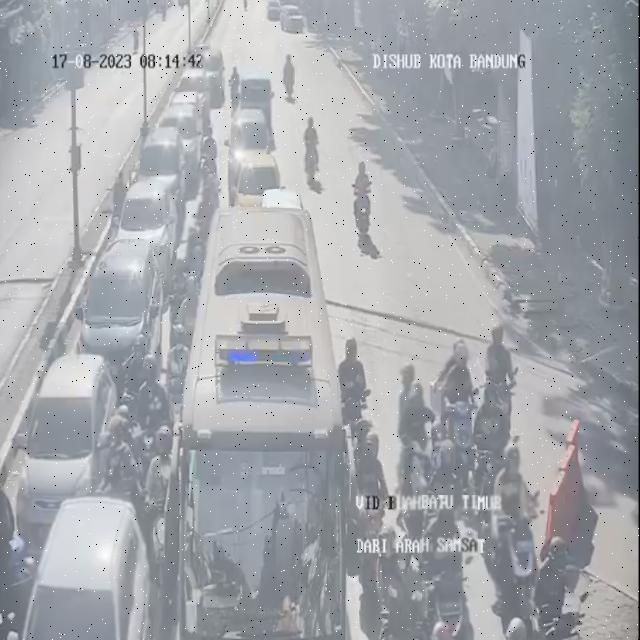bus: (190, 195, 337, 640)
cars: (19, 494, 153, 638), (19, 352, 118, 538), (76, 241, 162, 390), (120, 174, 180, 273), (140, 129, 186, 223), (231, 110, 274, 191), (234, 62, 275, 134), (234, 153, 284, 210), (159, 105, 202, 167), (183, 66, 213, 120), (170, 92, 208, 133), (202, 46, 222, 91), (278, 0, 303, 32), (266, 0, 285, 22)
motorcycle: (488, 436, 540, 608), (422, 496, 478, 640), (359, 518, 422, 640), (393, 362, 430, 513), (470, 373, 513, 491), (441, 337, 477, 469), (481, 327, 516, 456), (111, 410, 149, 524), (336, 334, 376, 436), (180, 174, 218, 271), (352, 422, 392, 510), (118, 338, 148, 452), (165, 235, 195, 349), (140, 358, 171, 463), (349, 157, 378, 250), (168, 327, 190, 430), (304, 112, 326, 192), (199, 130, 222, 193), (280, 50, 295, 108), (241, 0, 251, 13)
